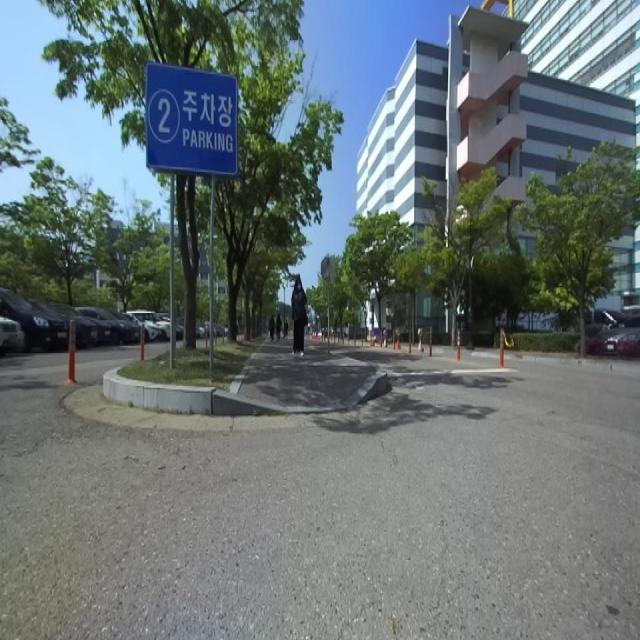sidewalk: (238, 339, 376, 406)
